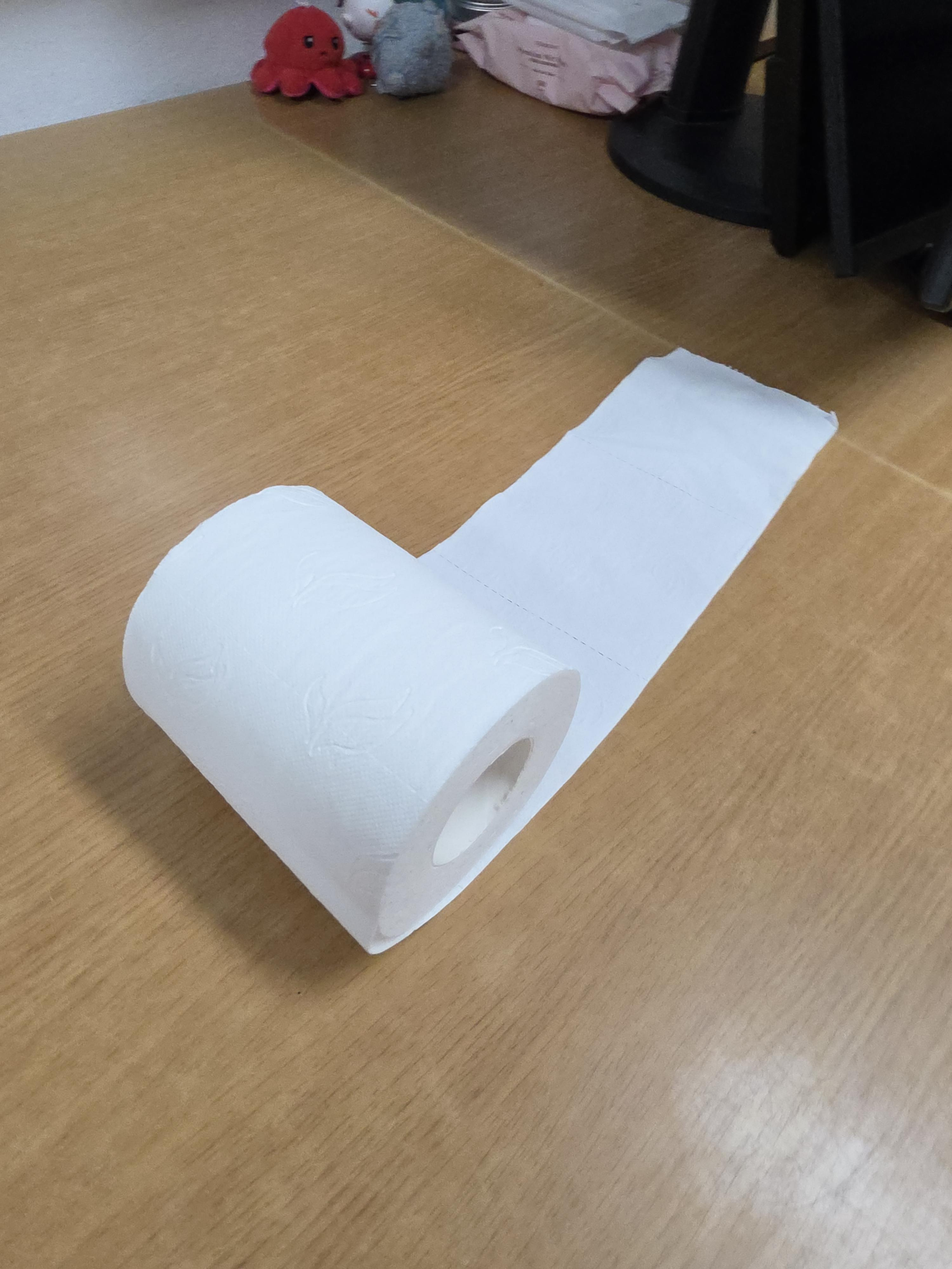tissue: (121, 347, 840, 956)
